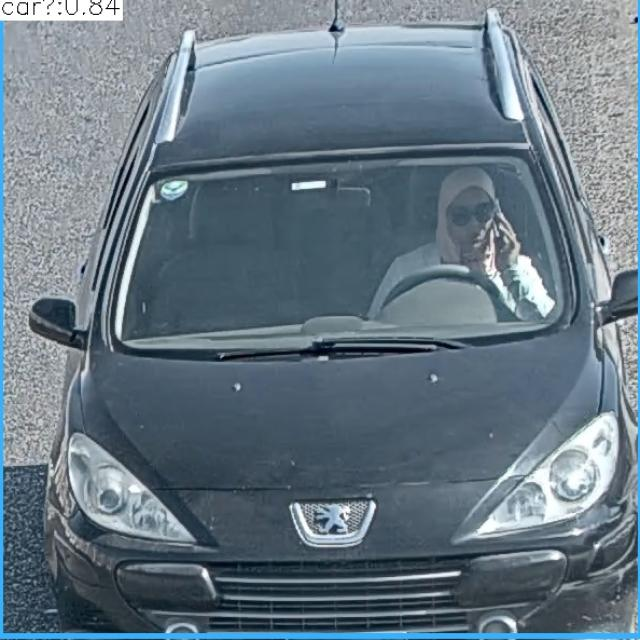windshield: (103, 148, 570, 344)
